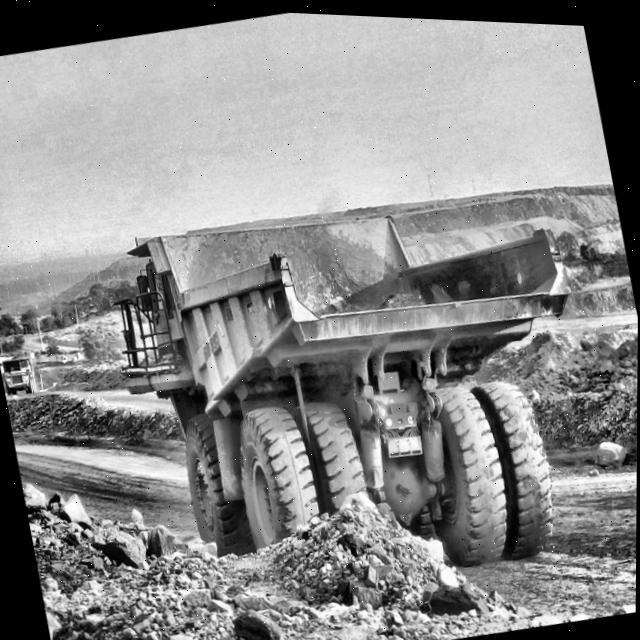dump_truck: (121, 214, 567, 555)
